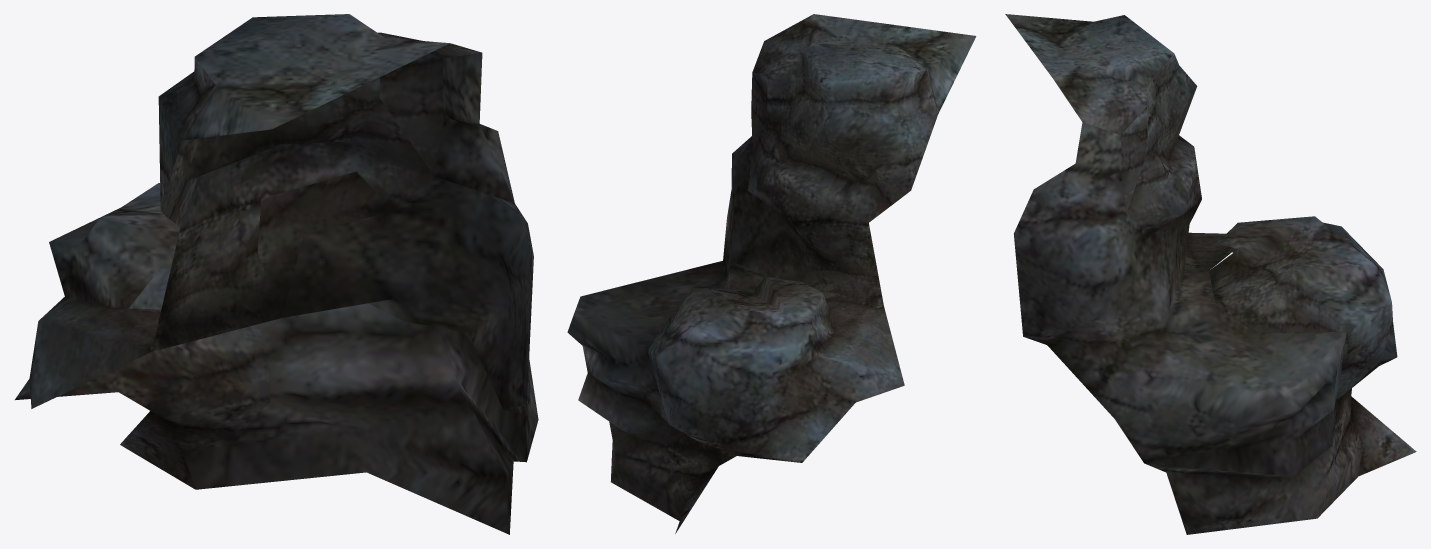
Rendered from S_Rock_Yellow034_H34.FBX.
3 renders of one model, left to right at view 1: azimuth 30°, elevation 25°; view 2: azimuth 150°, elevation 25°; view 3: azimuth 270°, elevation 25°, orthographic. The views are drawn at different scales.
Visible parts, largest first — view 1: S_Rock_Yellow034_H34; view 2: S_Rock_Yellow034_H34; view 3: S_Rock_Yellow034_H34.
Part boxes in pixels (bbox=[...]): S_Rock_Yellow034_H34: bbox=[15, 14, 538, 534]; S_Rock_Yellow034_H34: bbox=[567, 14, 976, 533]; S_Rock_Yellow034_H34: bbox=[1005, 14, 1416, 534].
Size of the model in its own units: 763 by 828 by 902.
Materials: 1 (1 with a texture image).
